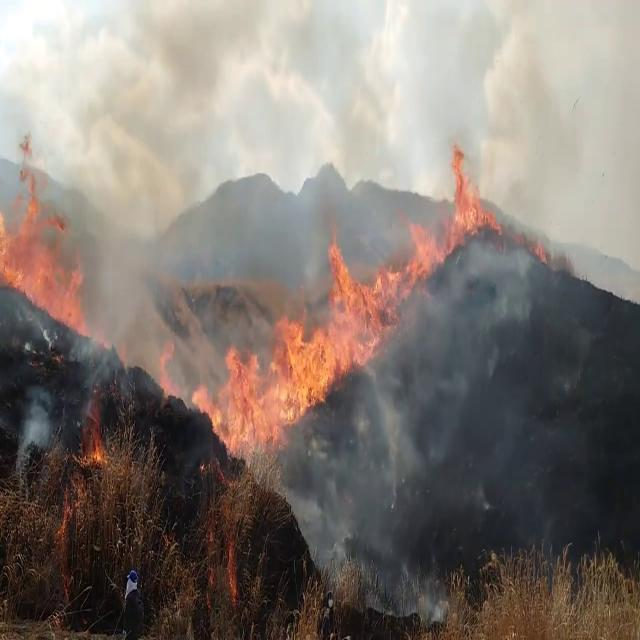Fire: (201, 223, 417, 458), (0, 149, 86, 337), (440, 145, 496, 257)
Smoke: (299, 257, 548, 602), (9, 9, 225, 398), (105, 0, 427, 221)
